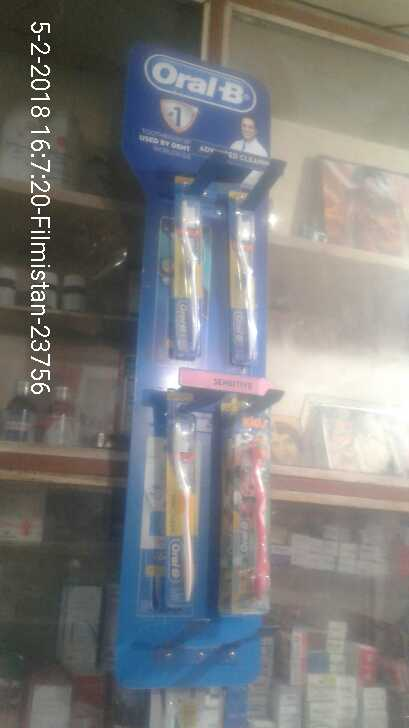oralb: (164, 415, 206, 619), (230, 200, 262, 366), (176, 198, 204, 353)
